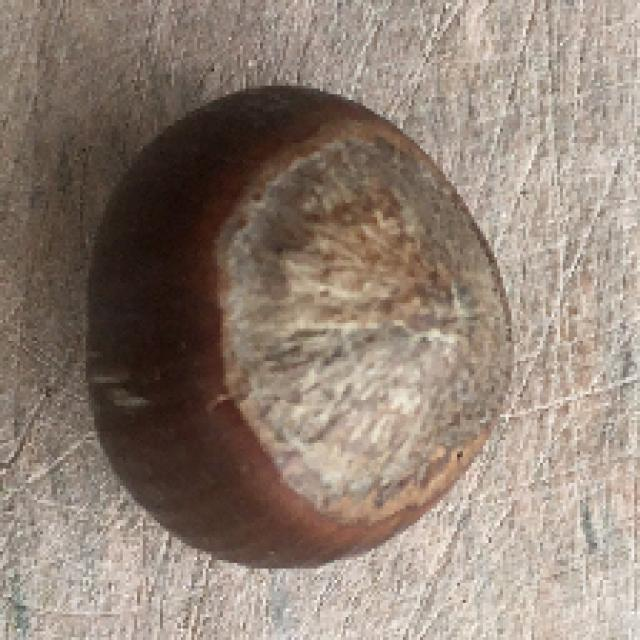qualityHazelnut: (66, 84, 516, 580)
